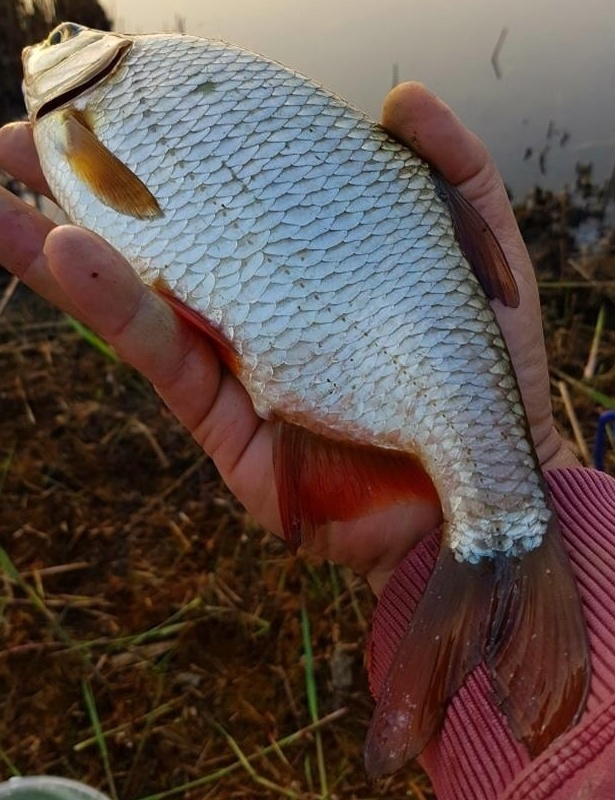Scardinius erythrophthalmus: (20, 20, 595, 780)
